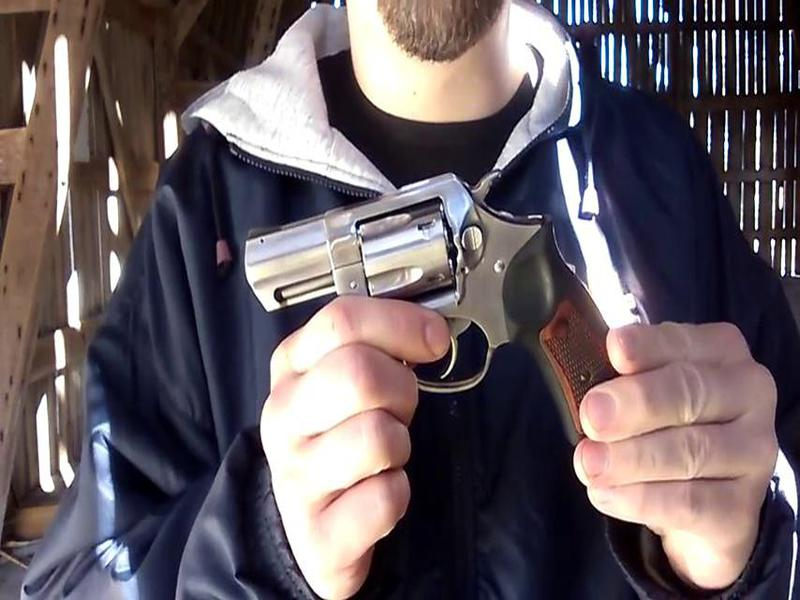Revolver: (231, 159, 627, 418)
